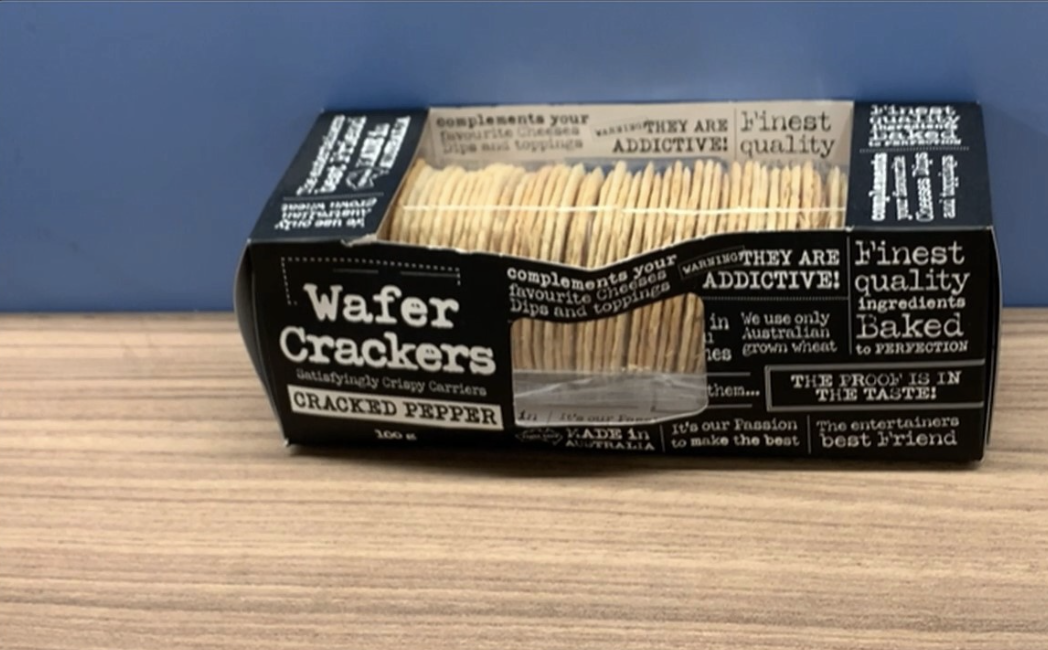crackers_150g: (266, 244, 969, 456)
